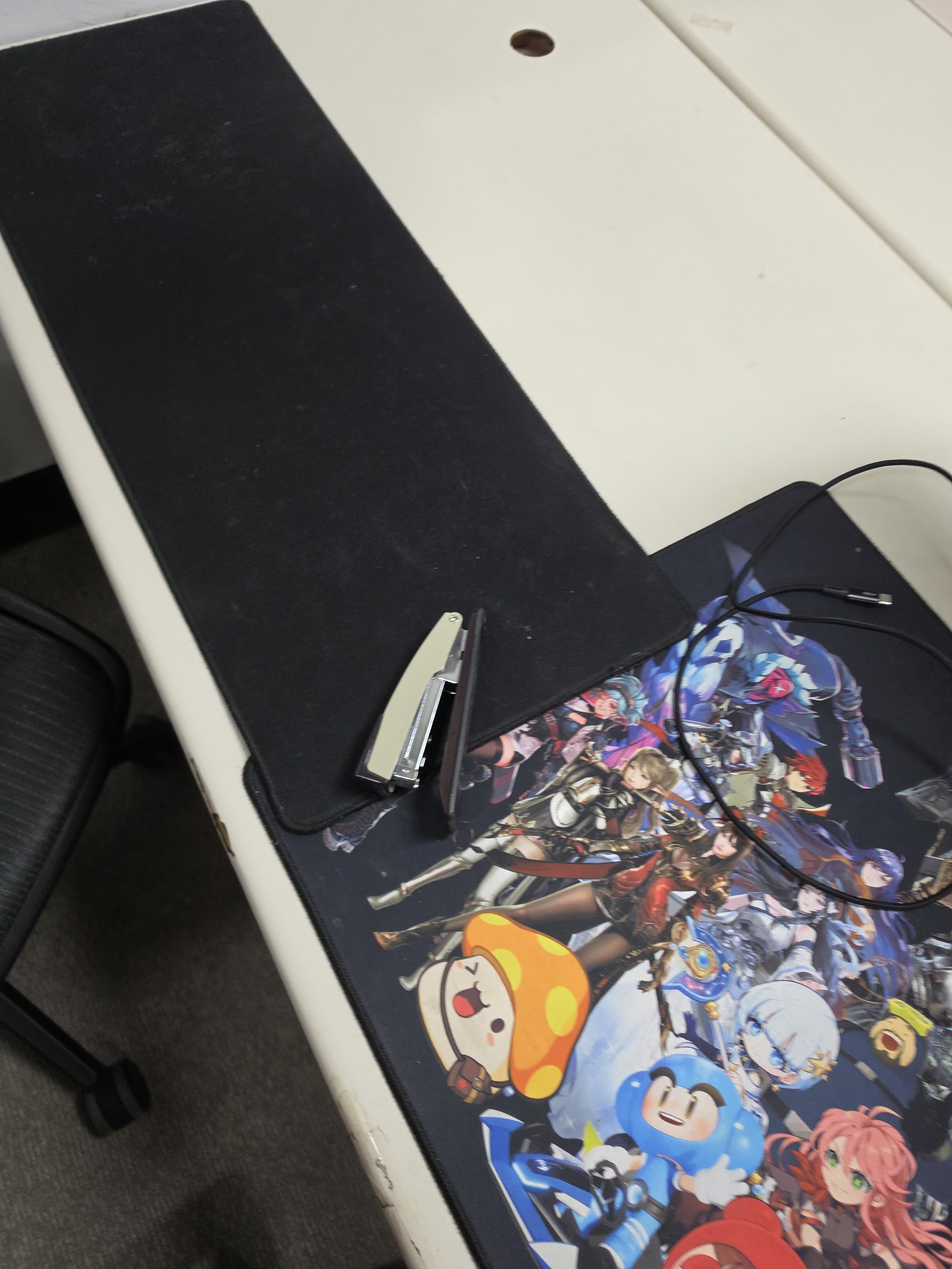stapler: (354, 607, 485, 843)
